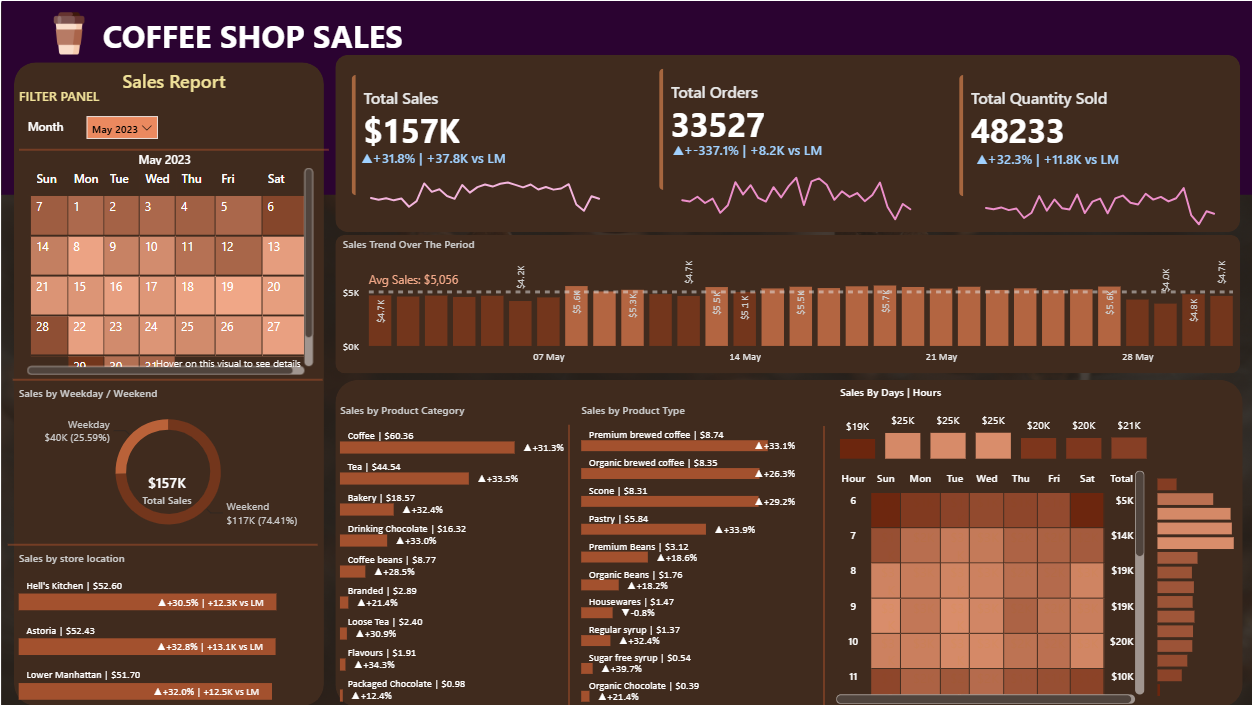

What the dashboard file says about the page in this screenshot:
{"tool":"powerbi","page":{"name":"Coffee Shop Sales","canvas":[1387,750],"ordinal":0},"visuals":[{"type":"shape","box":[53.7,10.2,1279.4,198.1],"z":0},{"type":"cardVisual","fields":{"Data":["Transactions.Total Orders"]},"box":[709.4,62.6,285,158.5],"z":0,"group":"g2"},{"type":"cardVisual","fields":{"Data":["Transactions.Total Sales"]},"box":[394.9,69,285,157.2],"z":0,"group":"g1"},{"type":"cardVisual","fields":{"Data":["Transactions.Total Quantity Sold"]},"box":[1016.1,69,285,158.5],"z":0,"group":"g3"},{"type":"shape","box":[66.5,72.9,317,658.2],"z":1000},{"type":"lineChart","fields":{"Category":["Date Table.Date.Variation.Date Hierarchy.Year","Date Table.Date.Variation.Date Hierarchy.Quarter","Date Table.Date.Variation.Date Hierarchy.Month","Date Table.Date.Variation.Date Hierarchy.Day"],"Y":["Transactions.Total Orders"]},"box":[734.8,153.6,263.3,86.9],"z":1000,"group":"g2"},{"type":"lineChart","fields":{"Category":["Date Table.Date.Variation.Date Hierarchy.Year","Date Table.Date.Variation.Date Hierarchy.Quarter","Date Table.Date.Variation.Date Hierarchy.Month","Date Table.Date.Variation.Date Hierarchy.Day"],"Y":["Transactions.Total Sales"]},"box":[416.6,161,263.3,85.6],"z":1000,"group":"g1"},{"type":"lineChart","fields":{"Category":["Date Table.Date.Variation.Date Hierarchy.Year","Date Table.Date.Variation.Date Hierarchy.Quarter","Date Table.Date.Variation.Date Hierarchy.Month","Date Table.Date.Variation.Date Hierarchy.Day"],"Y":["Transactions.Total Quantity Sold"]},"box":[1045.5,162.2,263.3,86.9],"z":1000,"group":"g3"},{"type":"shape","box":[394.9,65.2,925.4,181.5],"z":2000},{"type":"textbox","box":[152.1,19.2,383.4,55],"z":3000},{"type":"slicer","fields":{"Values":["Date Table.Month Year"]},"box":[130.4,117.6,93.3,42.2],"z":4000},{"type":"group","id":"g1","title":"Group 1","box":[394.9,69,285,177.7],"z":5000},{"type":"group","id":"g2","title":"Group 1","box":[709.4,62.6,288.9,177.7],"z":6000},{"type":"group","id":"g3","title":"Group 1","box":[1016.1,69,292.7,180.2],"z":7000},{"type":"pivotTable","fields":{"Rows":["Date Table.Week Number"],"Columns":["Date Table.Day Name"],"Values":["Min(Date Table.Day Number)"]},"box":[75.4,176.4,301.6,221.1],"z":8000},{"type":"cardVisual","fields":{"Data":["Min(Date Table.Month Year)"]},"box":[164.9,147,118.9,48.6],"z":9000},{"type":"cardVisual","fields":{"Data":["Transactions.Foot Note"]},"box":[182.8,355.3,212.2,48.6],"z":10000},{"type":"shape","box":[65.2,391.1,317,12.8],"z":11000},{"type":"shape","box":[71.6,155.9,317,12.8],"z":12000},{"type":"donutChart","title":"Sales by Weekday / Weekend","fields":{"Category":["Date Table.Weekday / Weekend"],"Y":["Transactions.Total Sales"]},"box":[66.5,403.9,315.7,162.3],"z":13000},{"type":"cardVisual","fields":{"Data":["Transactions.Total Sales"]},"box":[164.9,474.2,116.3,70.3],"z":14000},{"type":"shape","box":[887,510,317,12.8],"z":15000},{"type":"clusteredBarChart","title":" Sales by store location","fields":{"Category":["Transactions.store_location"],"Y":["Transactions.Placeholder","Transactions.Total Sales"]},"box":[66.5,572.6,310.6,159.8],"z":16000},{"type":"shape","box":[394.9,249.2,925.4,141.9],"z":17000},{"type":"columnChart","title":" Sales Trend Over The Period","fields":{"Category":["Transactions.transaction_date"],"Y":["Transactions.Total Sales"]},"box":[397.5,251.8,925.4,139.3],"z":18000},{"type":"shape","box":[394.9,397.5,927.9,334.9],"z":19000},{"type":"clusteredBarChart","title":" Sales by Product Category","fields":{"Y":["Transactions.Placeholder","Transactions.Total Sales"],"Category":["Transactions.product_category"]},"box":[394.9,421.8,246.7,310.6],"z":20000},{"type":"clusteredBarChart","title":" Sales by Product Type","fields":{"Y":["Transactions.Placeholder","Transactions.Total Sales"],"Category":["Transactions.product_type"]},"box":[641.6,421.8,228.8,310.6],"z":21000},{"type":"shape","box":[60.1,559.8,317,12.8],"z":22000},{"type":"shape","box":[626.3,443.5,15.3,288.9],"z":23000},{"type":"shape","box":[887,444.8,15.3,287.6],"z":24000},{"type":"pivotTable","fields":{"Rows":["Transactions.Hour"],"Columns":["Date Table.Day Name"],"Values":["Transactions.Total Sales"]},"box":[902.4,485.7,324.6,248],"z":25000},{"type":"barChart","fields":{"Y":["Transactions.Total Sales"],"Category":["Transactions.Hour"]},"box":[1230.8,485.7,89.5,240.3],"z":26000},{"type":"columnChart","title":"Sales By Days | Hours","fields":{"Y":["Transactions.Total Sales"],"Category":["Date Table.Day Name"]},"box":[906.2,402.6,324.6,81.8],"z":27000},{"type":"textbox","box":[75.4,124,55,35.8],"z":28000},{"type":"textbox","box":[143.2,74.1,173.8,34.5],"z":29000},{"type":"textbox","box":[66.5,93.3,111.2,33.2],"z":30000},{"type":"image","box":[84.4,21.7,76.7,43.5],"z":31000}]}

Visuals, with their boxes on the page's 1387x750 design canvas (x1, y1, x2, y2). These are canvas units, not pixel positions in the 1252x705 screenshot, which may show the page scaled, cropped or inside an application window:
shape: bbox(54, 10, 1333, 208)
cardVisual - Transactions.Total Orders: bbox(709, 63, 994, 221)
cardVisual - Transactions.Total Sales: bbox(395, 69, 680, 226)
cardVisual - Transactions.Total Quantity Sold: bbox(1016, 69, 1301, 228)
shape: bbox(66, 73, 384, 731)
lineChart - Date Table.Date.Variation.Date Hierarchy.Year x Date Table.Date.Variation.Date Hierarchy.Quarter: bbox(735, 154, 998, 240)
lineChart - Date Table.Date.Variation.Date Hierarchy.Year x Date Table.Date.Variation.Date Hierarchy.Quarter: bbox(417, 161, 680, 247)
lineChart - Date Table.Date.Variation.Date Hierarchy.Year x Date Table.Date.Variation.Date Hierarchy.Quarter: bbox(1046, 162, 1309, 249)
shape: bbox(395, 65, 1320, 247)
textbox: bbox(152, 19, 536, 74)
slicer - Date Table.Month Year: bbox(130, 118, 224, 160)
"Group 1" group: bbox(395, 69, 680, 247)
"Group 1" group: bbox(709, 63, 998, 240)
"Group 1" group: bbox(1016, 69, 1309, 249)
pivotTable - Date Table.Week Number x Date Table.Day Name: bbox(75, 176, 377, 398)
cardVisual - Min(Date Table.Month Year): bbox(165, 147, 284, 196)
cardVisual - Transactions.Foot Note: bbox(183, 355, 395, 404)
shape: bbox(65, 391, 382, 404)
shape: bbox(72, 156, 389, 169)
"Sales by Weekday / Weekend" donutChart: bbox(66, 404, 382, 566)
cardVisual - Transactions.Total Sales: bbox(165, 474, 281, 544)
shape: bbox(887, 510, 1204, 523)
" Sales by store location" clusteredBarChart: bbox(66, 573, 377, 732)
shape: bbox(395, 249, 1320, 391)
" Sales Trend Over The Period" columnChart: bbox(398, 252, 1323, 391)
shape: bbox(395, 398, 1323, 732)
" Sales by Product Category" clusteredBarChart: bbox(395, 422, 642, 732)
" Sales by Product Type" clusteredBarChart: bbox(642, 422, 870, 732)
shape: bbox(60, 560, 377, 573)
shape: bbox(626, 444, 642, 732)
shape: bbox(887, 445, 902, 732)
pivotTable - Transactions.Hour x Date Table.Day Name: bbox(902, 486, 1227, 734)
barChart - Transactions.Total Sales x Transactions.Hour: bbox(1231, 486, 1320, 726)
"Sales By Days | Hours" columnChart: bbox(906, 403, 1231, 484)
textbox: bbox(75, 124, 130, 160)
textbox: bbox(143, 74, 317, 109)
textbox: bbox(66, 93, 178, 126)
image: bbox(84, 22, 161, 65)
